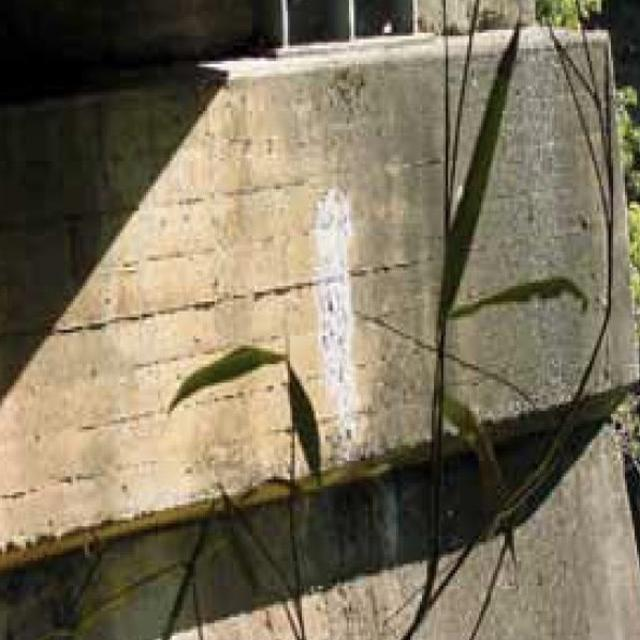freelime: (303, 190, 363, 423)
